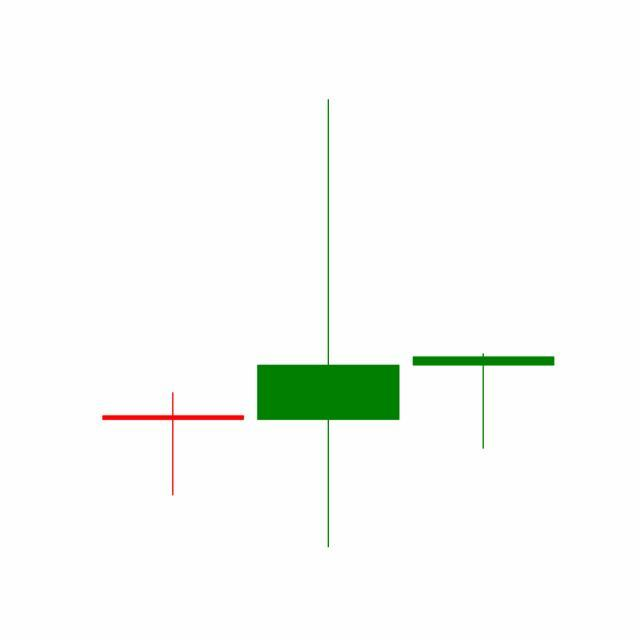Dragonfly Doji: (406, 352, 562, 451)
